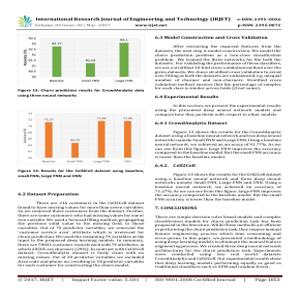diagram: (16, 106, 149, 164), (16, 32, 146, 87)
image: (16, 11, 34, 29)
text: (152, 34, 282, 270), (16, 190, 146, 269), (34, 13, 281, 29), (14, 168, 146, 182), (15, 87, 146, 98)
